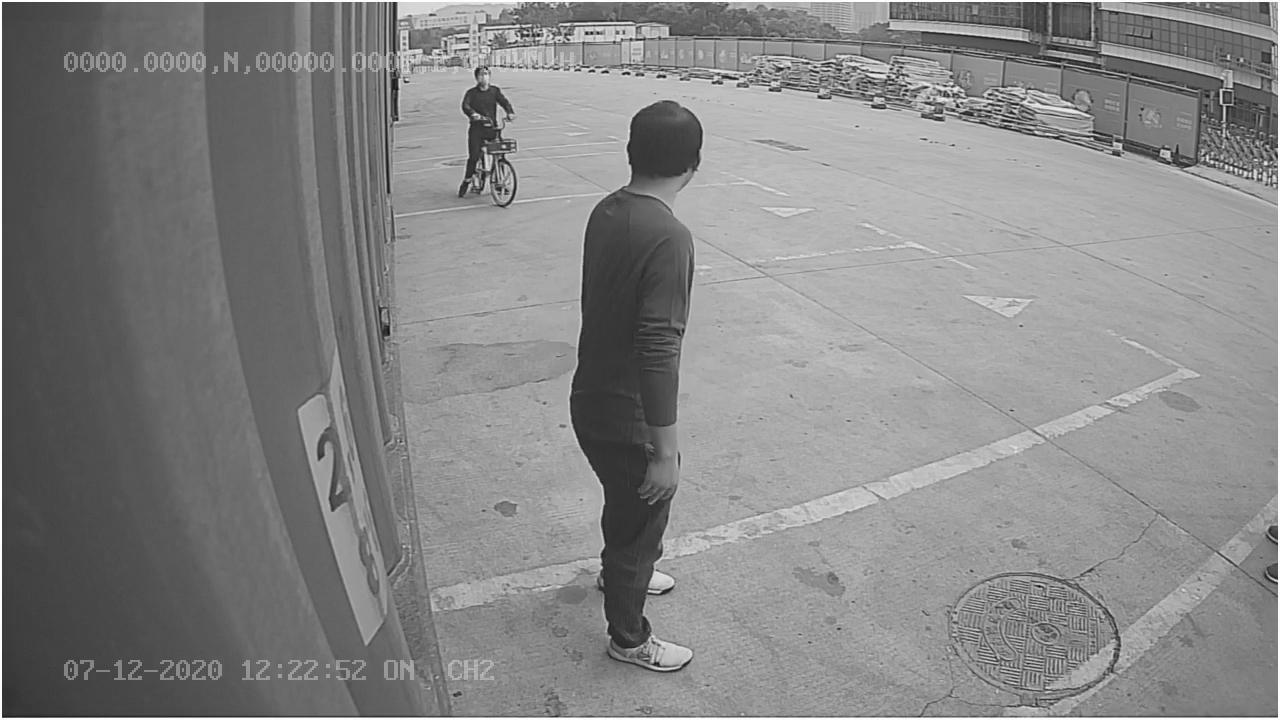person: (562, 93, 720, 676)
